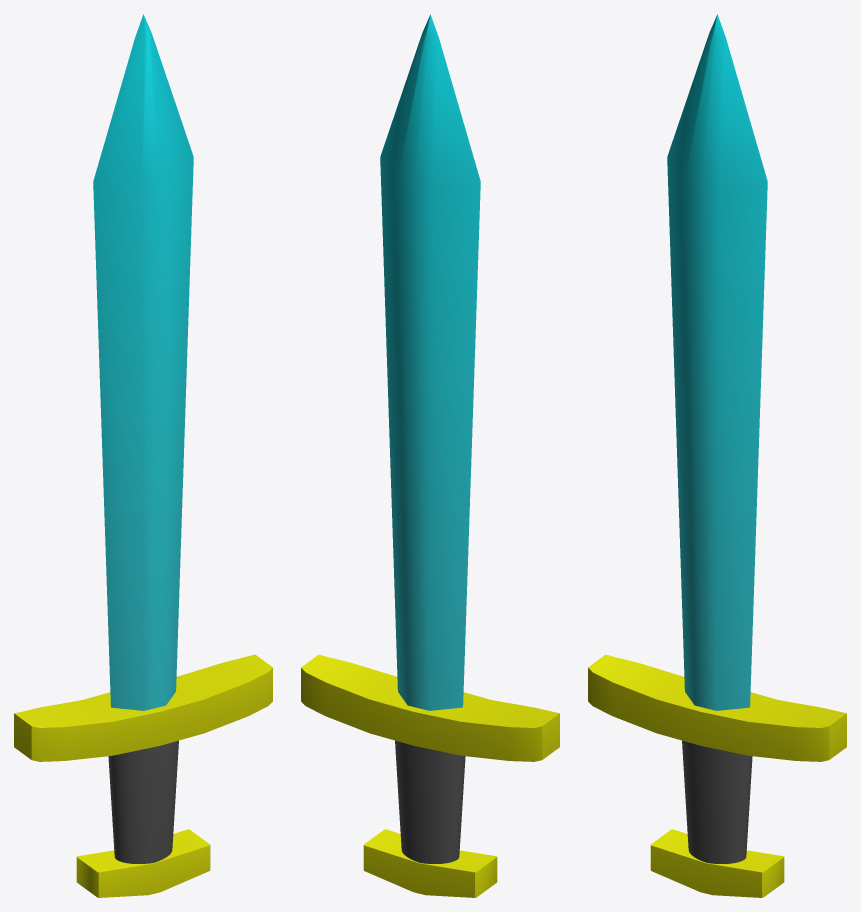
Rendered from sword.fbx.
3 renders of one model, left to right at view 1: azimuth 30°, elevation 25°; view 2: azimuth 150°, elevation 25°; view 3: azimuth 330°, elevation 25°, orthographic.
Parts seen in each view (by area): view 1: Cube; view 2: Cube; view 3: Cube.
Boxes of the visible parts, <box> form: Cube: <box>14,14,272,897</box>; Cube: <box>301,14,559,897</box>; Cube: <box>588,14,846,897</box>.
Size of the model in its own units: 1.67 by 5.76 by 0.4.
1 material, 1 textured.
